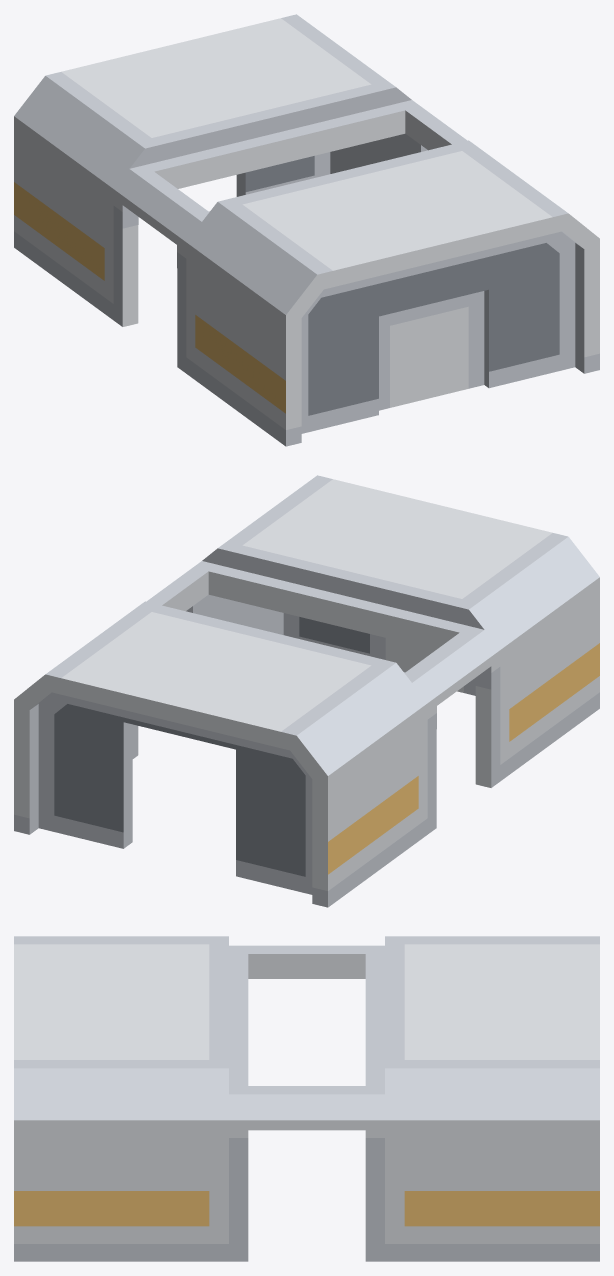
The model's file is BEtter_Gangar_LargeA.fbx.
3 renders of one model, top to bottom at view 1: azimuth 30°, elevation 25°; view 2: azimuth 150°, elevation 25°; view 3: azimuth 270°, elevation 25°, orthographic. The views are drawn at different scales.
Visible parts, largest first — view 1: hangar_largeA; view 2: hangar_largeA; view 3: hangar_largeA.
Part boxes in pixels (left/top/right/bottom): hangar_largeA: left=14, top=14, right=599, bottom=446; hangar_largeA: left=14, top=475, right=599, bottom=907; hangar_largeA: left=14, top=936, right=599, bottom=1261.
Size of the model in its own units: 200 by 300 by 100.
